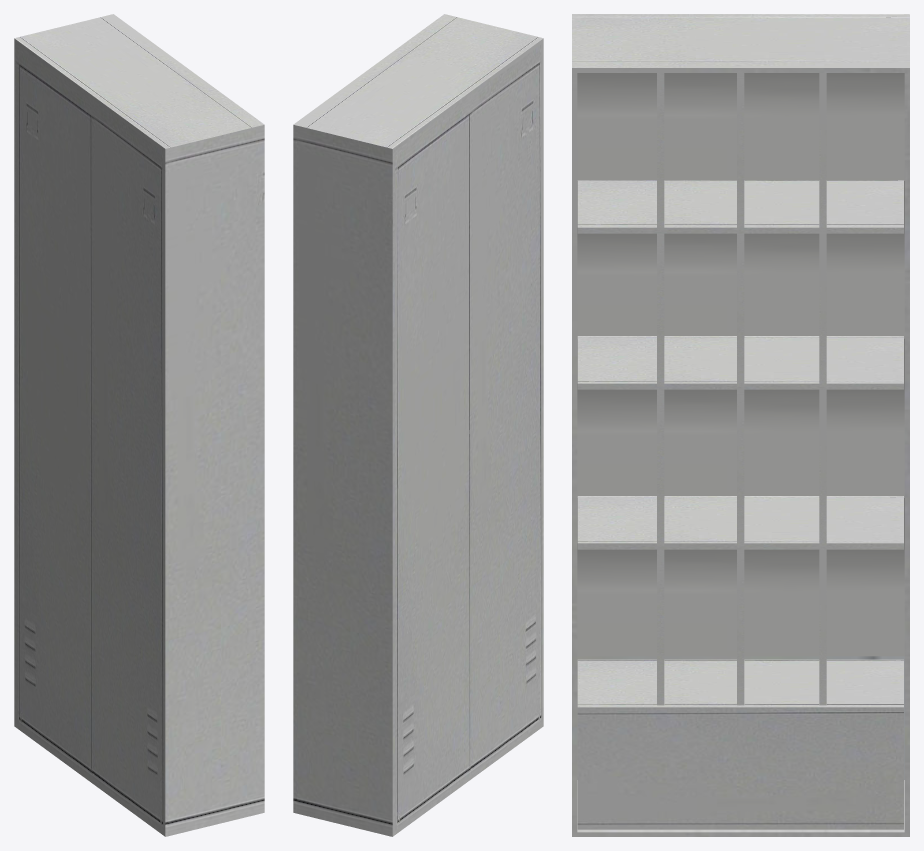
File: 档案柜2.obj
3 renders of one model, left to right at view 1: azimuth 30°, elevation 25°; view 2: azimuth 150°, elevation 25°; view 3: azimuth 270°, elevation 25°, orthographic. The views are drawn at different scales.
Visible parts, largest first — view 1: object 2, Box005; view 2: object 2, Box005; view 3: Box011, Box035, Box029, Box017, Box023, Box005, Box006, Box008, Box009, object 3, Box024, Box025 (+10 smaller).
Part boxes in pixels (x1=…): object 2: x1=15, y1=40, x2=165, y2=836; Box005: x1=14, y1=14, x2=264, y2=836; object 2: x1=393, y1=40, x2=543, y2=830; Box005: x1=293, y1=14, x2=543, y2=836; Box011: x1=577, y1=659, x2=903, y2=829; Box035: x1=577, y1=498, x2=904, y2=656; Box029: x1=577, y1=338, x2=904, y2=496; Box017: x1=577, y1=73, x2=904, y2=180; Box023: x1=577, y1=181, x2=904, y2=337; Box005: x1=572, y1=14, x2=909, y2=836; Box006: x1=577, y1=180, x2=903, y2=233; Box008: x1=577, y1=336, x2=903, y2=389; Box009: x1=577, y1=496, x2=903, y2=549; object 3: x1=577, y1=337, x2=904, y2=779; Box024: x1=819, y1=388, x2=826, y2=546; Box025: x1=737, y1=388, x2=744, y2=546.
Bounding box in the file's own units: 39.36 × 260 × 104.
